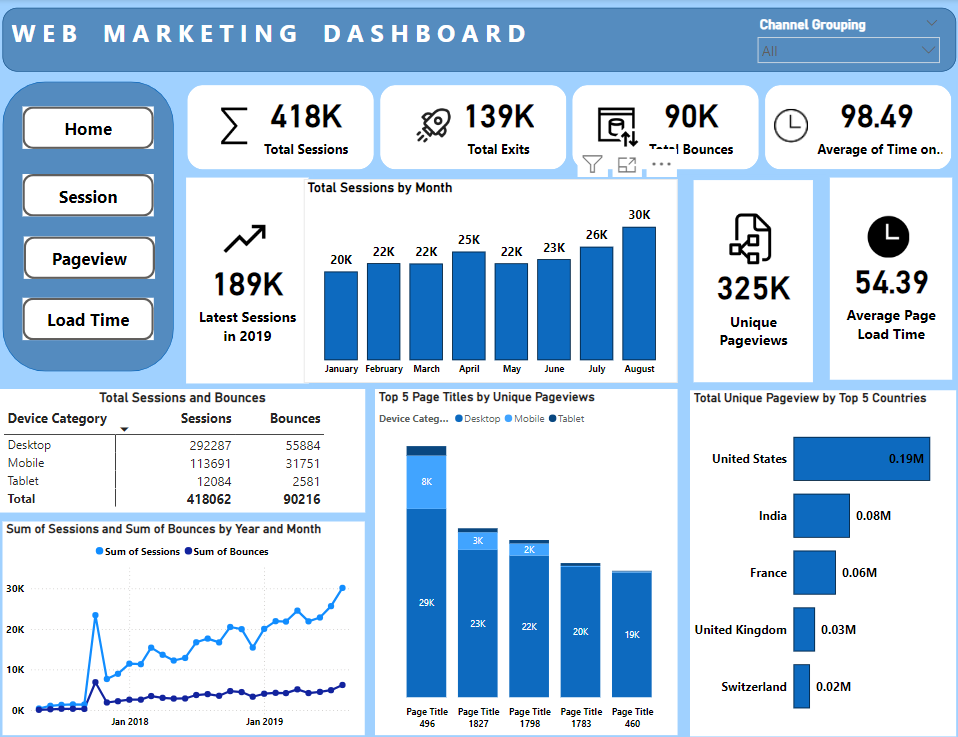

The page's visual inventory and layout, read from the dashboard file:
{"tool":"powerbi","page":{"name":"Home","canvas":[1300,1000],"ordinal":0},"visuals":[{"type":"textbox","box":[10.1,11.7,1278.5,85.5],"z":0},{"type":"shape","box":[10.1,110.6,229.6,388.7],"z":1000},{"type":"actionButton","box":[36.9,144.1,175.9,57],"z":2000},{"type":"actionButton","box":[36.9,234.6,175.9,57],"z":3000},{"type":"actionButton","box":[38.5,318.4,175.9,57],"z":4000},{"type":"actionButton","box":[36.9,400.5,175.9,57],"z":5000},{"type":"cardVisual","fields":{"Data":["Sum(Power BI hw assignment - Web Marketing Dashboard Data.Sessions)","Sum(Power BI hw assignment - Web Marketing Dashboard Data.Exits)","Sum(Power BI hw assignment - Web Marketing Dashboard Data.Bounces)","Avg(Power BI hw assignment - Web Marketing Dashboard Data.Time on Page)"]},"box":[253,110.6,1035.5,124],"z":6000},{"type":"cardVisual","fields":{"Data":["Sum(Power BI hw assignment - Web Marketing Dashboard Data.Sessions)"]},"box":[251.3,234.6,174.3,286.5],"z":7000},{"type":"cardVisual","fields":{"Data":["Avg(Power BI hw assignment - Web Marketing Dashboard Data.Page Load Time)"]},"box":[1114.3,234.6,174.3,281.5],"z":8000},{"type":"cardVisual","fields":{"Data":["Sum(Power BI hw assignment - Web Marketing Dashboard Data.Unique Pageviews)"]},"box":[931.6,237.9,170.9,281.5],"z":9000},{"type":"clusteredColumnChart","title":"Total Sessions by Month","fields":{"Category":["Power BI hw assignment - Web Marketing Dashboard Data.Date.Variation.Date Hierarchy.Month"],"Y":["Sum(Power BI hw assignment - Web Marketing Dashboard Data.Sessions)"]},"box":[413.9,241.3,501,273.1],"z":10000},{"type":"pivotTable","title":"Total Sessions and Bounces","fields":{"Rows":["Power BI hw assignment - Web Marketing Dashboard Data.Device Category"],"Values":["Sum(Power BI hw assignment - Web Marketing Dashboard Data.Sessions)","Sum(Power BI hw assignment - Web Marketing Dashboard Data.Bounces)"]},"box":[6.7,522.8,489.3,165.9],"z":11000},{"type":"lineChart","fields":{"Category":["Power BI hw assignment - Web Marketing Dashboard Data.Date.Variation.Date Hierarchy.Year","Power BI hw assignment - Web Marketing Dashboard Data.Date.Variation.Date Hierarchy.Month"],"Y":["Sum(Power BI hw assignment - Web Marketing Dashboard Data.Sessions)","Sum(Power BI hw assignment - Web Marketing Dashboard Data.Bounces)"]},"box":[10.1,700.4,485.9,286.5],"z":12000},{"type":"columnChart","title":"Top 5 Page Titles by Unique Pageviews","fields":{"Category":["Power BI hw assignment - Web Marketing Dashboard Data.Page Title"],"Y":["Sum(Power BI hw assignment - Web Marketing Dashboard Data.Unique Pageviews)"],"Series":["Power BI hw assignment - Web Marketing Dashboard Data.Device Category"]},"box":[509.4,522.8,405.5,464.1],"z":13000},{"type":"clusteredBarChart","title":"Total Unique Pageview by Top 5 Countries","fields":{"Y":["Sum(Power BI hw assignment - Web Marketing Dashboard Data.Unique Pageviews)"],"Category":["Power BI hw assignment - Web Marketing Dashboard Data.Country"]},"box":[931.6,524.5,356.9,464.1],"z":14000},{"type":"slicer","fields":{"Values":["Power BI hw assignment - Web Marketing Dashboard Data.Channel Grouping"]},"box":[1012.1,18.4,264.7,67],"z":15000}]}

Visuals, with their boxes in screenshot pixels (x1, y1, x2, y2), scaled from the page's 1300x1000 canvas onto the 958x737 screenshot:
textbox: x1=7, y1=9, x2=950, y2=72
shape: x1=7, y1=82, x2=177, y2=368
actionButton: x1=27, y1=106, x2=157, y2=148
actionButton: x1=27, y1=173, x2=157, y2=215
actionButton: x1=28, y1=235, x2=158, y2=277
actionButton: x1=27, y1=295, x2=157, y2=337
cardVisual - Sum(Power BI hw assignment - Web Marketing Dashboard Data.Sessions) x Sum(Power BI hw assignment - Web Marketing Dashboard Data.Exits): x1=186, y1=82, x2=950, y2=173
cardVisual - Sum(Power BI hw assignment - Web Marketing Dashboard Data.Sessions): x1=185, y1=173, x2=314, y2=384
cardVisual - Avg(Power BI hw assignment - Web Marketing Dashboard Data.Page Load Time): x1=821, y1=173, x2=950, y2=380
cardVisual - Sum(Power BI hw assignment - Web Marketing Dashboard Data.Unique Pageviews): x1=687, y1=175, x2=812, y2=383
"Total Sessions by Month" clusteredColumnChart: x1=305, y1=178, x2=674, y2=379
"Total Sessions and Bounces" pivotTable: x1=5, y1=385, x2=366, y2=508
lineChart - Power BI hw assignment - Web Marketing Dashboard Data.Date.Variation.Date Hierarchy.Year x Power BI hw assignment - Web Marketing Dashboard Data.Date.Variation.Date Hierarchy.Month: x1=7, y1=516, x2=366, y2=727
"Top 5 Page Titles by Unique Pageviews" columnChart: x1=375, y1=385, x2=674, y2=727
"Total Unique Pageview by Top 5 Countries" clusteredBarChart: x1=687, y1=387, x2=950, y2=729
slicer - Power BI hw assignment - Web Marketing Dashboard Data.Channel Grouping: x1=746, y1=14, x2=941, y2=63
